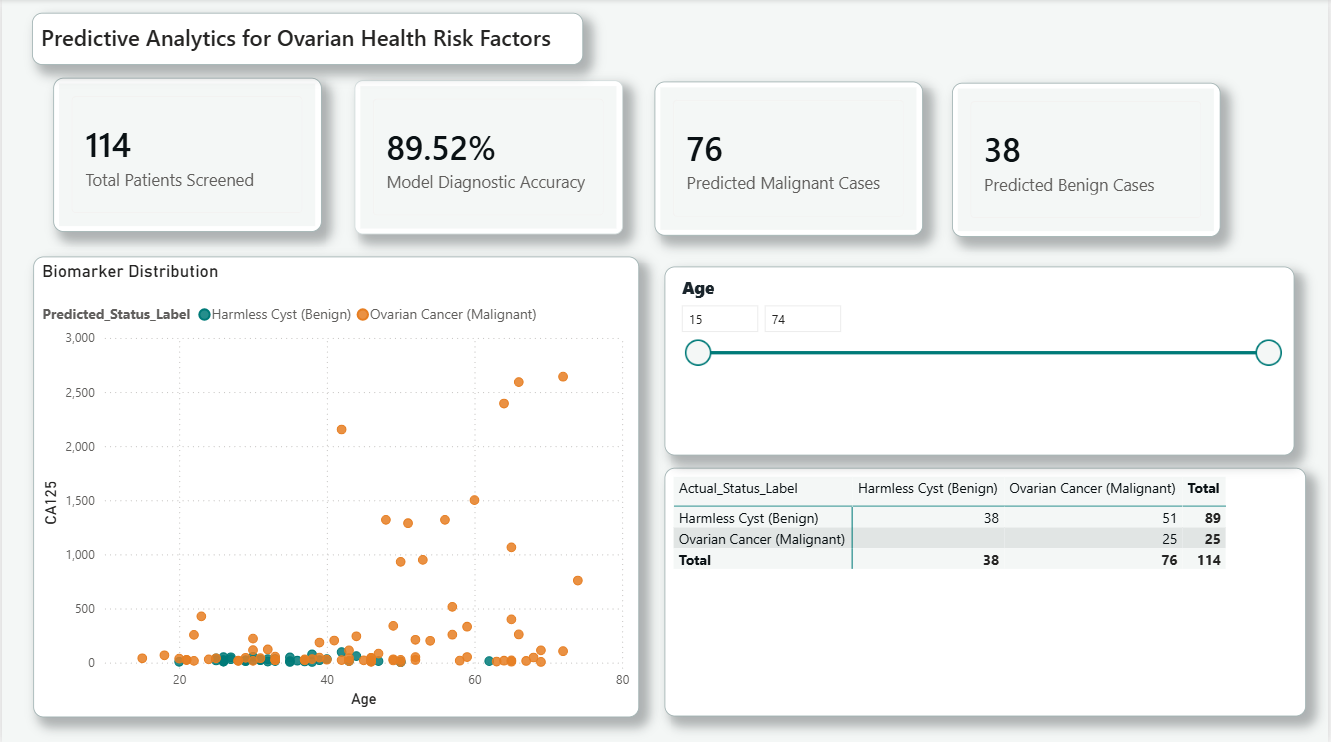

The page's visual inventory and layout, read from the dashboard file:
{"tool":"powerbi","page":{"name":"Page 1","canvas":[1280,720],"ordinal":0},"visuals":[{"type":"cardVisual","fields":{"Data":["Count(Ovarian_Cancer_PowerBI_Input_AfterMLAlgorithm.SUBJECT_ID)"]},"box":[49.1,76.6,259,149],"z":0},{"type":"cardVisual","fields":{"Data":["Ovarian_Cancer_PowerBI_Input_AfterMLAlgorithm.Model Accuracy"]},"box":[340.6,78.2,259,149],"z":1000},{"type":"cardVisual","fields":{"Data":["Ovarian_Cancer_PowerBI_Input_AfterMLAlgorithm.Malignant Count"]},"box":[630.1,79.6,259,149],"z":2000},{"type":"cardVisual","fields":{"Data":["Ovarian_Cancer_PowerBI_Input_AfterMLAlgorithm.Benign Count"]},"box":[916.9,81,259,149],"z":3000},{"type":"pivotTable","fields":{"Columns":["Ovarian_Cancer_PowerBI_Input_AfterMLAlgorithm.Predicted_Status_Label"],"Rows":["Ovarian_Cancer_PowerBI_Input_AfterMLAlgorithm.Actual_Status_Label"],"Values":["Count(Ovarian_Cancer_PowerBI_Input_AfterMLAlgorithm.SUBJECT_ID)"]},"box":[639.5,452.8,618.9,240.1],"z":4000},{"type":"slicer","fields":{"Values":["Ovarian_Cancer_PowerBI_Input_AfterMLAlgorithm.Age"]},"box":[639.5,258,607.9,182.5],"z":5000},{"type":"scatterChart","title":"Biomarker Distribution","fields":{"Series":["Ovarian_Cancer_PowerBI_Input_AfterMLAlgorithm.Predicted_Status_Label"],"X":["Ovarian_Cancer_PowerBI_Input_AfterMLAlgorithm.Age"],"Y":["Ovarian_Cancer_PowerBI_Input_AfterMLAlgorithm.CA125"]},"box":[30.2,248.4,584.6,444.6],"z":6000},{"type":"textbox","box":[29,13.3,532,50.7],"z":7000}]}

Visuals, with their boxes in screenshot pixels (x1, y1, x2, y2), scaled from the page's 1280x720 canvas onto the 1331x742 screenshot:
cardVisual - Count(Ovarian_Cancer_PowerBI_Input_AfterMLAlgorithm.SUBJECT_ID): [51, 79, 320, 232]
cardVisual - Ovarian_Cancer_PowerBI_Input_AfterMLAlgorithm.Model Accuracy: [354, 81, 623, 234]
cardVisual - Ovarian_Cancer_PowerBI_Input_AfterMLAlgorithm.Malignant Count: [655, 82, 925, 236]
cardVisual - Ovarian_Cancer_PowerBI_Input_AfterMLAlgorithm.Benign Count: [953, 83, 1223, 237]
pivotTable - Ovarian_Cancer_PowerBI_Input_AfterMLAlgorithm.Predicted_Status_Label x Ovarian_Cancer_PowerBI_Input_AfterMLAlgorithm.Actual_Status_Label: [665, 467, 1309, 714]
slicer - Ovarian_Cancer_PowerBI_Input_AfterMLAlgorithm.Age: [665, 266, 1297, 454]
"Biomarker Distribution" scatterChart: [31, 256, 639, 714]
textbox: [30, 14, 583, 66]
